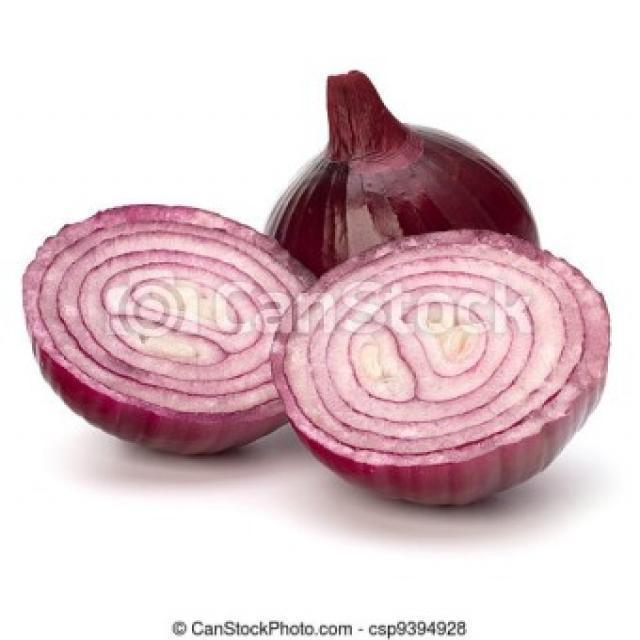Onion: (270, 229, 609, 504), (22, 204, 325, 457), (260, 67, 540, 276)
